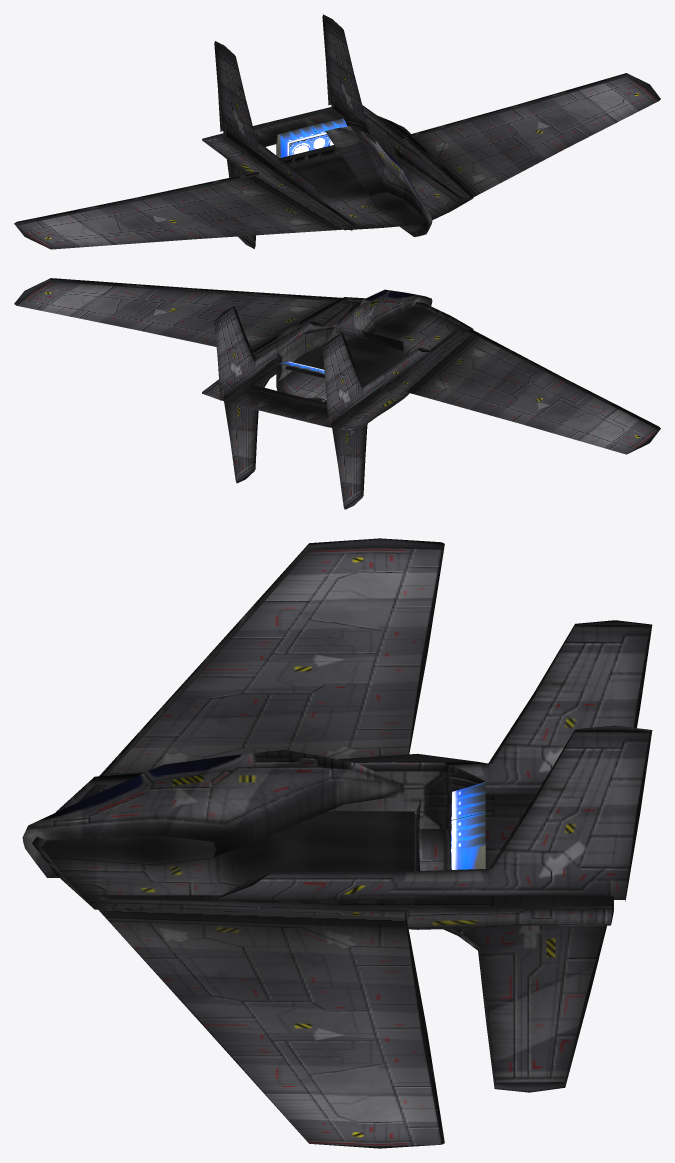
Rendered from ancestor.gltf.
The picture shows the model from 3 angles, top to bottom: view 1: azimuth 30°, elevation 25°; view 2: azimuth 150°, elevation 25°; view 3: azimuth 270°, elevation 25°; orthographic projection. The views are drawn at different scales.
Visible parts, largest first — view 1: base; view 2: base; view 3: base.
Part boxes in pixels (x1,y1,x2,y2): base: [14, 14, 660, 249]; base: [14, 278, 660, 509]; base: [22, 538, 652, 1148].
Bounding box in the file's own units: 49.2 × 13.8 × 21.46.
1 material, 1 textured.
